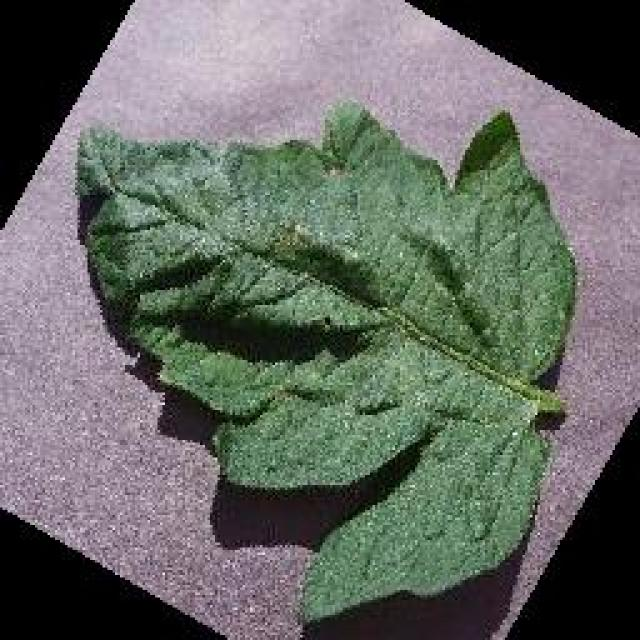Tomato___Target_Spot: (78, 105, 572, 628)
